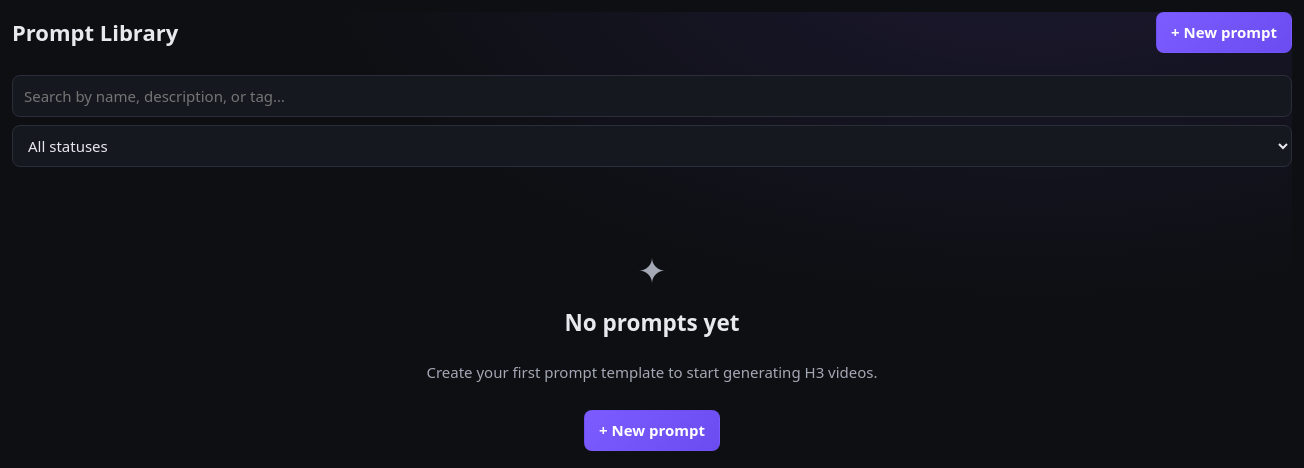
Test: Library search races (debounce + abort + stale guard) › ignores a stale response from a superseded query
# Type 'a' and wait for its (debounced) request to actually fire.
Type "a" into the search field named "Search prompts" at (652, 96), box [12,74,1292,117]
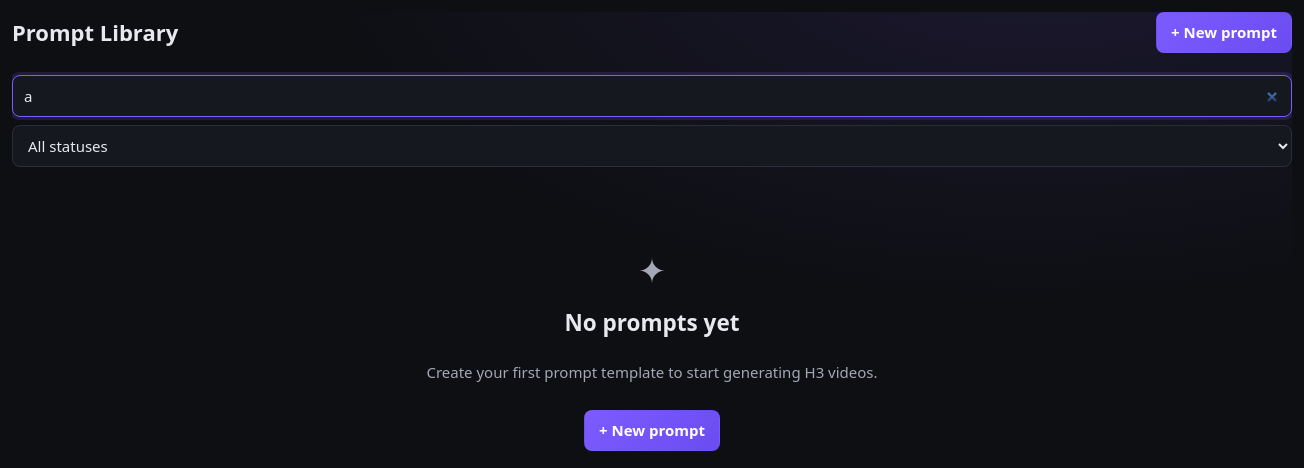
# Then type 'b' (now 'ab'): the current query.
Type "b" into the search field named "Search prompts" at (652, 96), box [12,74,1292,117]
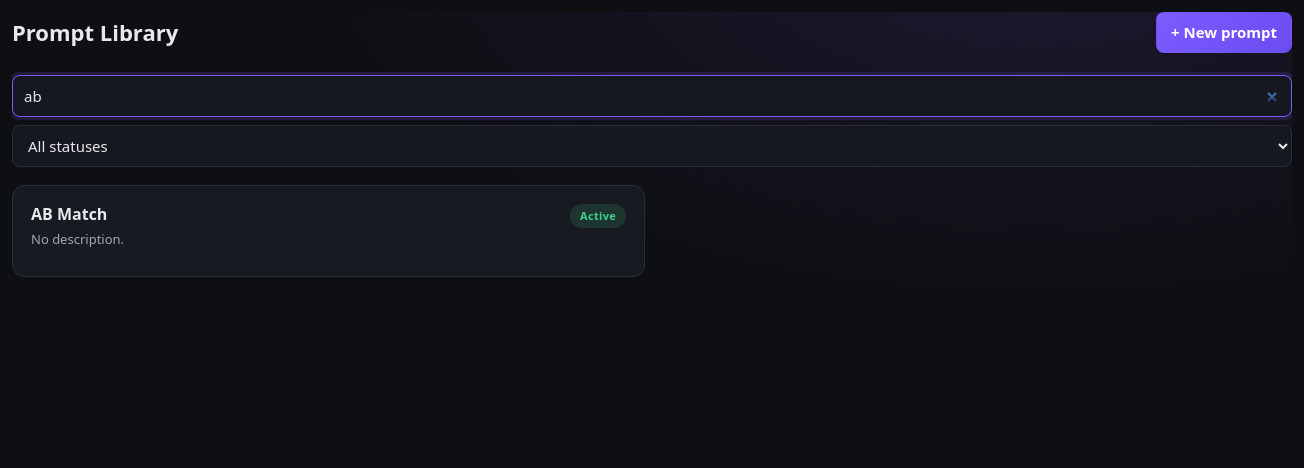
Result: the heading "AB Match" is shown at [31,202,107,226]
